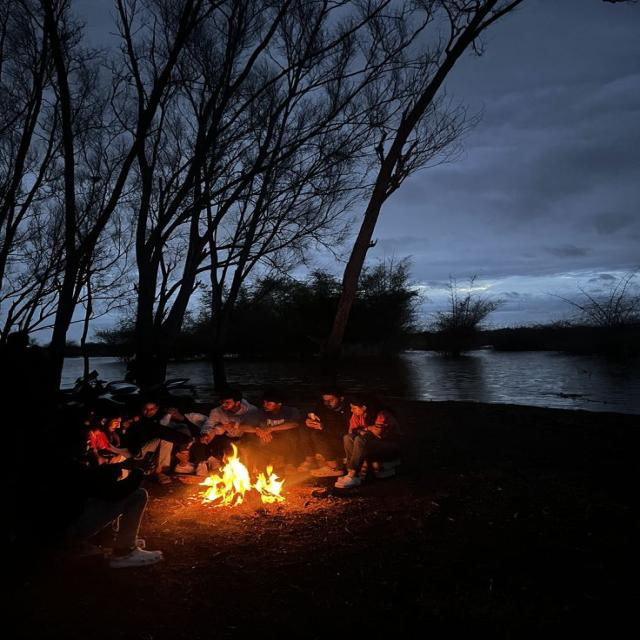fire: (199, 442, 250, 508)
